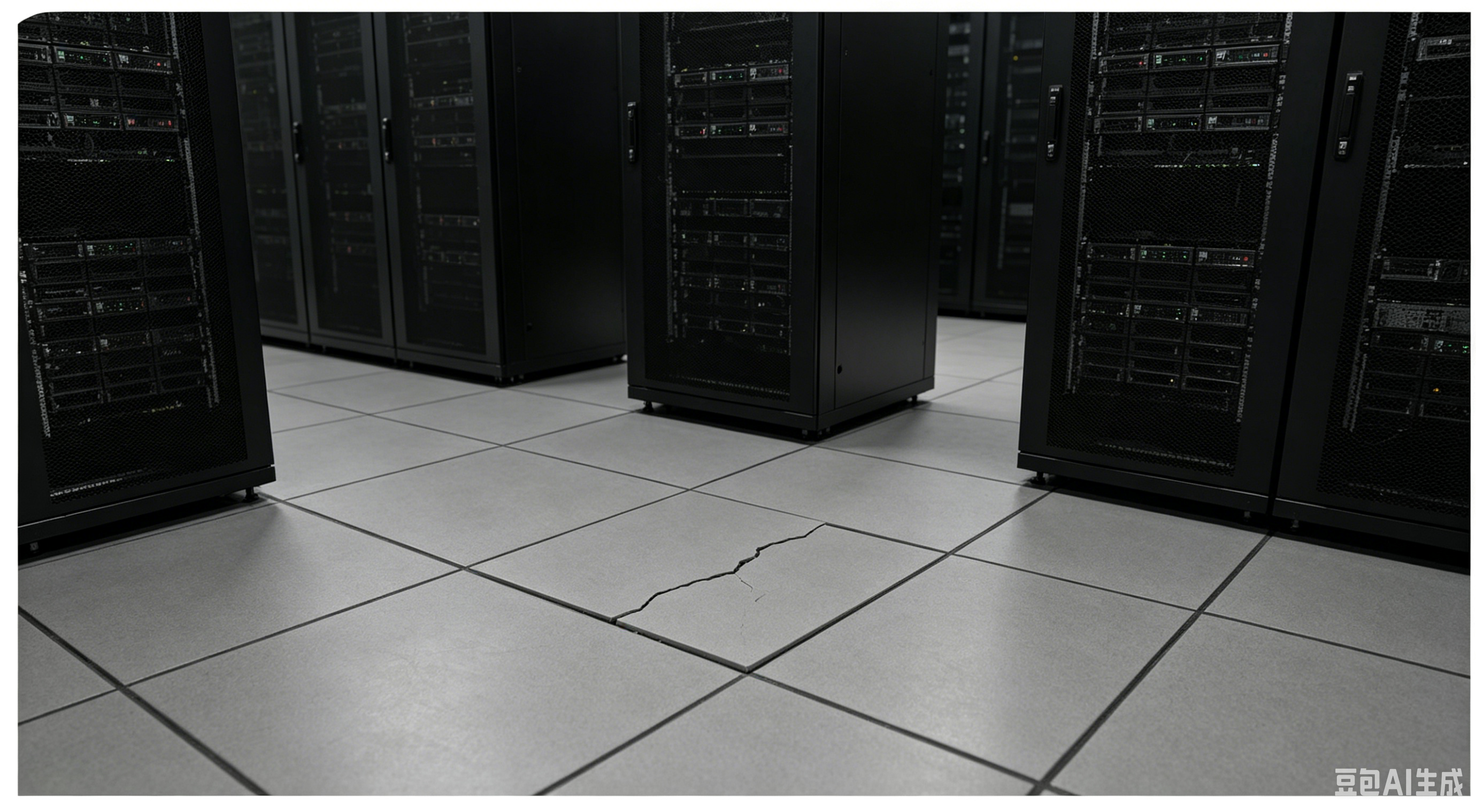floor_defect: (583, 559, 756, 641), (681, 509, 858, 560)
